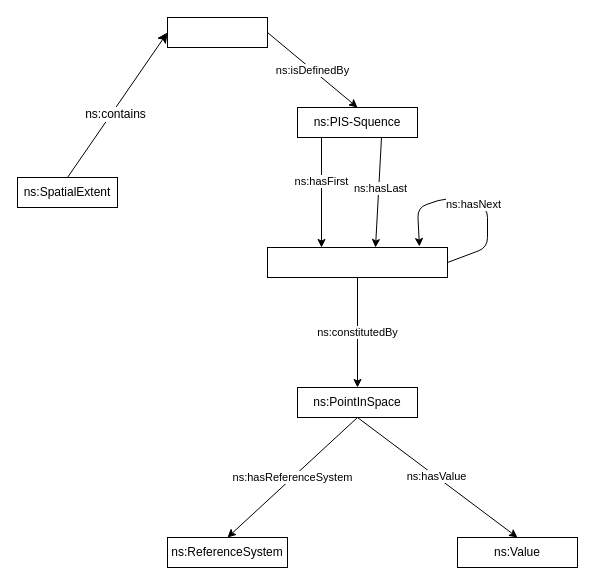
The diagram is 595 pixels wide and 585 high, and some of its shapes have lost their labels. Here are the shapes that lost their labels. From the top down, the centre of each, then its label:
At point 217,32: "ns:Interior".
At point 357,262: "ns:PIS-SequenceElement".
